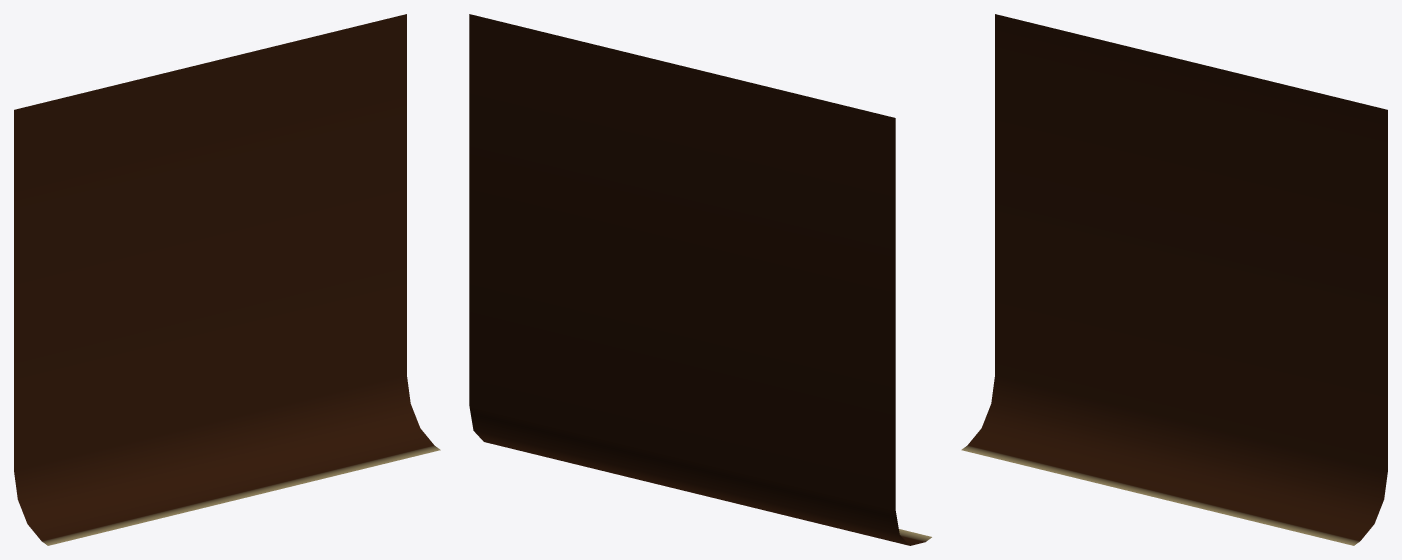
The model's file is Base_UpFront.fbx.
The picture shows the model from 3 angles, left to right: view 1: azimuth 30°, elevation 25°; view 2: azimuth 150°, elevation 25°; view 3: azimuth 330°, elevation 25°; orthographic projection. The views are drawn at different scales.
Visible parts, largest first — view 1: Base_UpFront; view 2: Base_UpFront; view 3: Base_UpFront.
Part boxes in pixels (box(x1,y1,x2,y2)): Base_UpFront: box(14, 14, 440, 545); Base_UpFront: box(469, 14, 931, 545); Base_UpFront: box(961, 14, 1387, 545).
Size of the model in its own units: 2000 by 2000 by 300.
